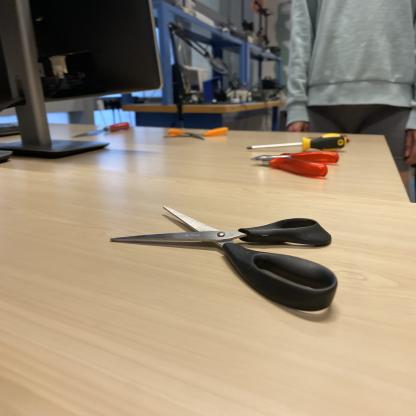scissors: (108, 201, 340, 317), (162, 119, 230, 144)
